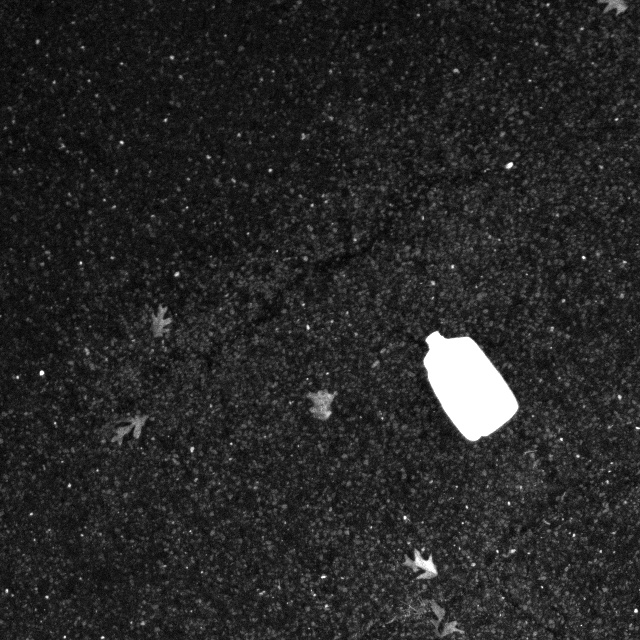can: (421, 327, 521, 449)
